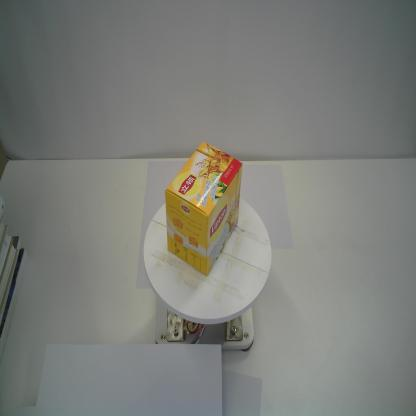Instant Drink: (163, 140, 244, 278)
